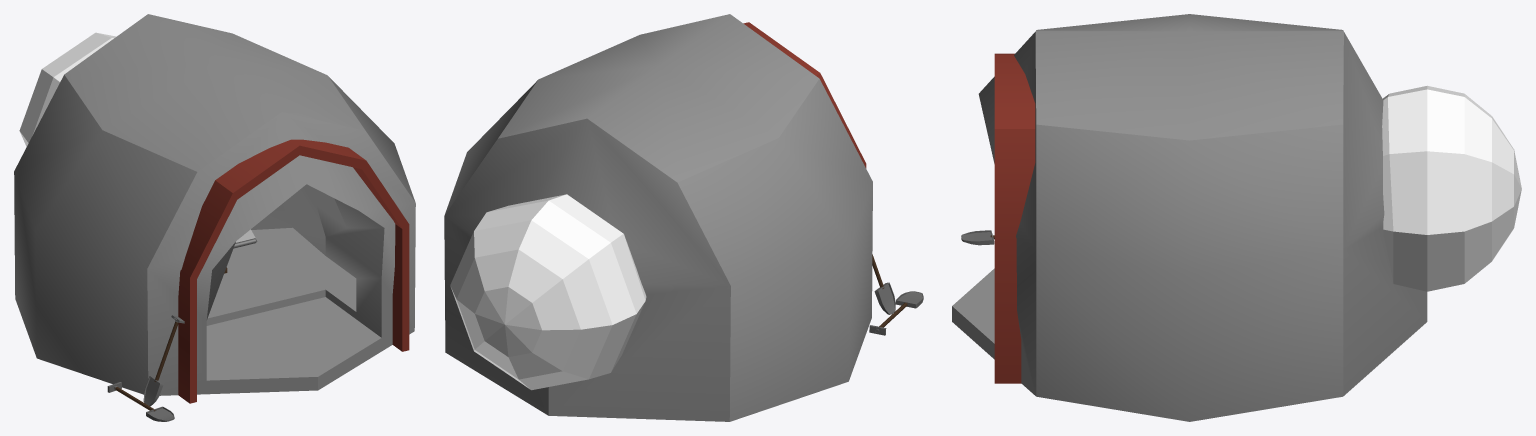
Rendered from alienbuilding.glb.
3 views of the same model, side by side, from view 1: azimuth 30°, elevation 25°; view 2: azimuth 150°, elevation 25°; view 3: azimuth 270°, elevation 25° (orthographic). The views are drawn at different scales.
Visible parts, largest first — view 1: polySurface5, polySurface6, polySurface4, shovel:pCube1; view 2: polySurface5, polySurface4, polySurface6, shovel:pCube1; view 3: polySurface5, polySurface4, polySurface6.
Boxes of the visible parts, x1,y1,x2,y2 form: polySurface5: (14,14,415,395); polySurface6: (178,139,409,403); polySurface4: (19,32,116,146); shovel:pCube1: (143,376,163,406); polySurface5: (444,14,872,421); polySurface4: (450,194,646,390); polySurface6: (743,22,866,168); shovel:pCube1: (874,282,895,314); polySurface5: (952,14,1427,421); polySurface4: (1382,85,1521,291); polySurface6: (994,53,1035,383).
Bounding box in the file's own units: 30.97 × 20.78 × 36.94.
Materials: 7 (5 with a texture image).
